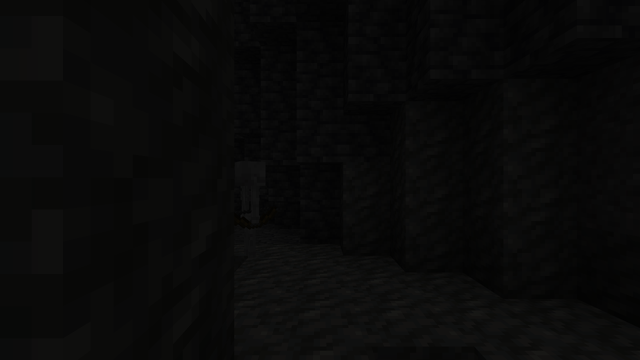squelettes: (235, 161, 265, 259)
